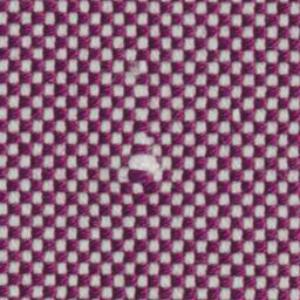defect: (115, 56, 180, 199)
